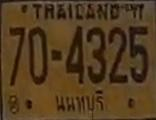0: (28, 26, 47, 84)
2: (108, 27, 128, 83)
3: (86, 26, 105, 82)
4: (65, 25, 83, 82)
5: (128, 25, 148, 82)
7: (8, 27, 26, 86)
NBI: (50, 88, 108, 118)
